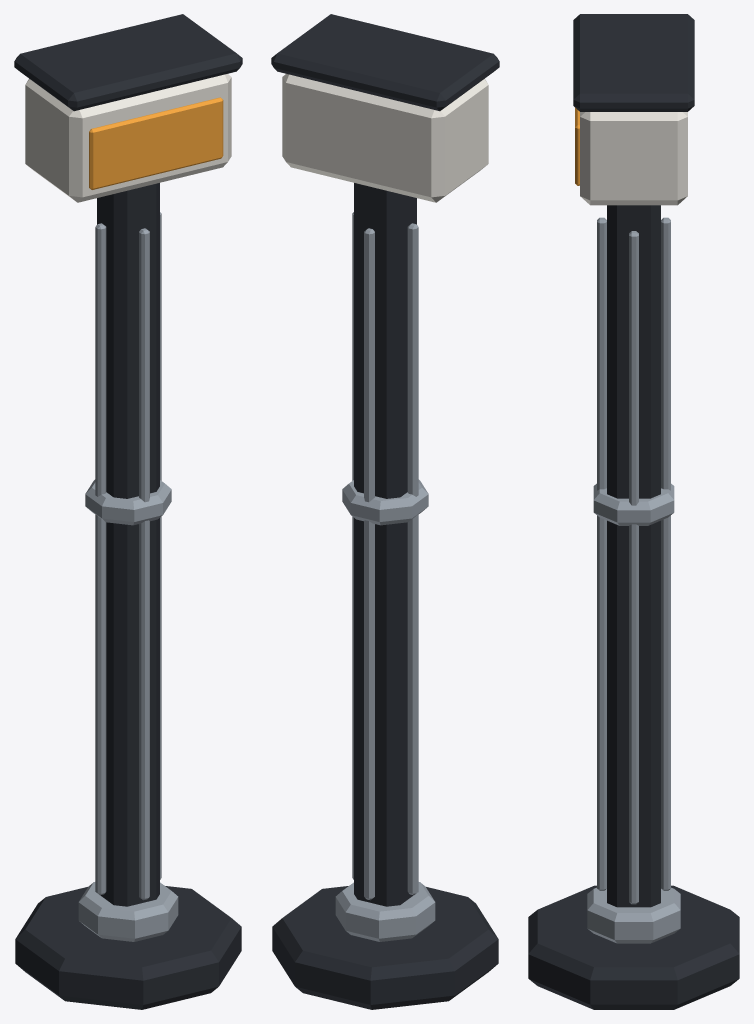
File: light_pylon.obj
The picture shows the model from 3 angles, left to right: view 1: azimuth 30°, elevation 25°; view 2: azimuth 150°, elevation 25°; view 3: azimuth 270°, elevation 25°; orthographic projection.
Visible parts, largest first — view 1: light_pylon; view 2: light_pylon; view 3: light_pylon.
Part boxes in pixels (x1=…): light_pylon: x1=14, y1=14, x2=242, y2=1009; light_pylon: x1=271, y1=14, x2=499, y2=1009; light_pylon: x1=528, y1=14, x2=739, y2=1009.
Bounding box in the file's own units: 0.6282 × 3 × 0.6282.
